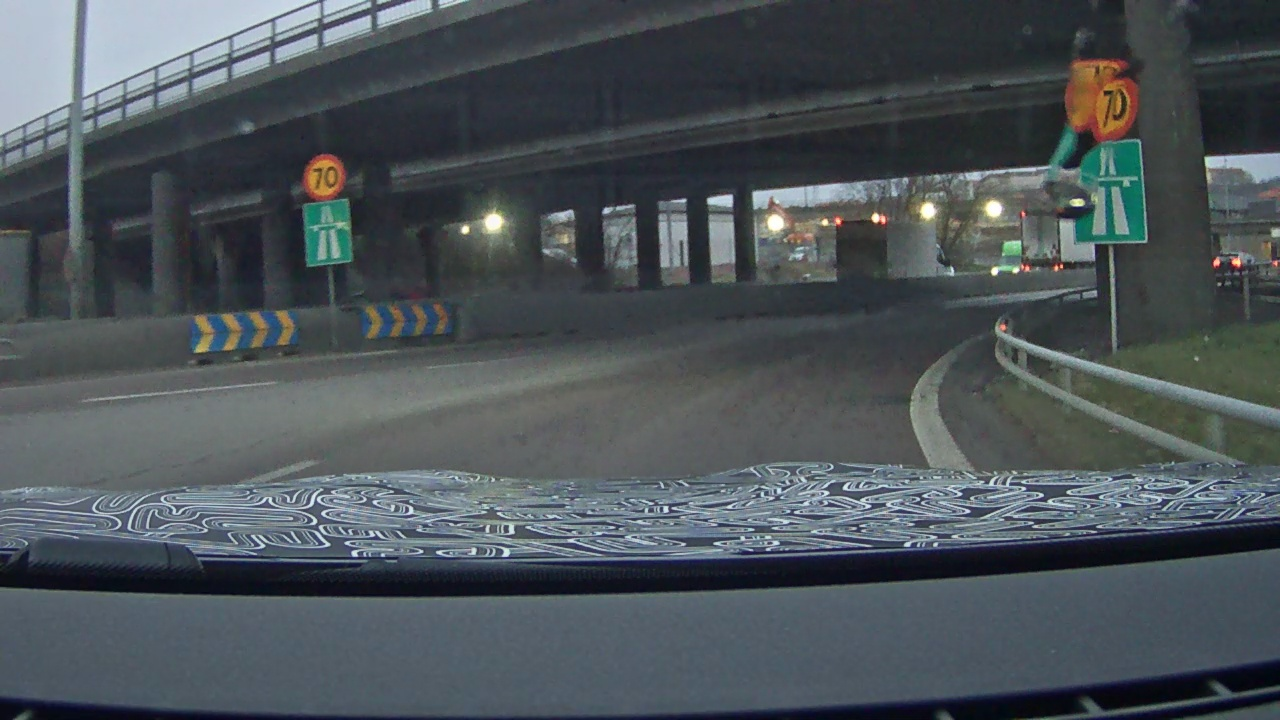Motorway_Begin: (304, 198, 352, 269)
